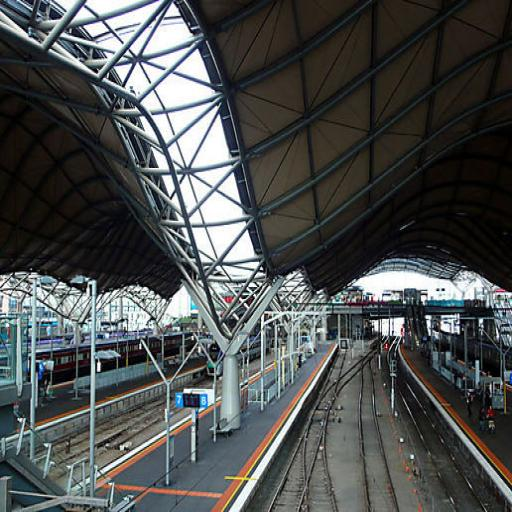platform_edge: (205, 454, 282, 512), (273, 360, 330, 432)
